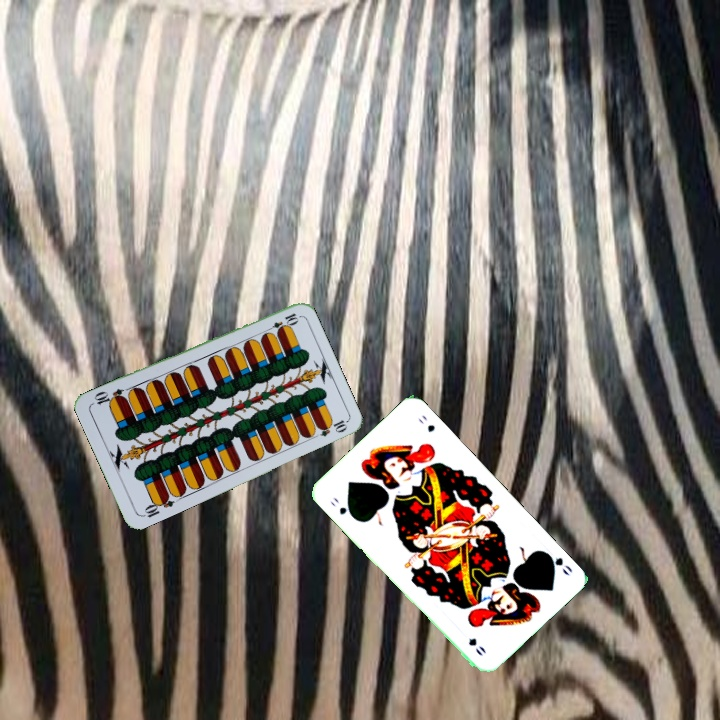E10: (138, 491, 177, 520), (262, 309, 301, 336)
GO: (540, 547, 575, 578), (326, 493, 357, 521)
